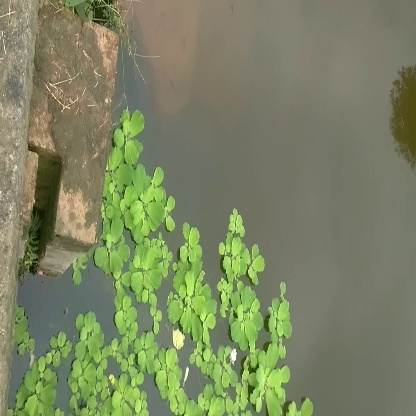leaf: (118, 163, 174, 238)
